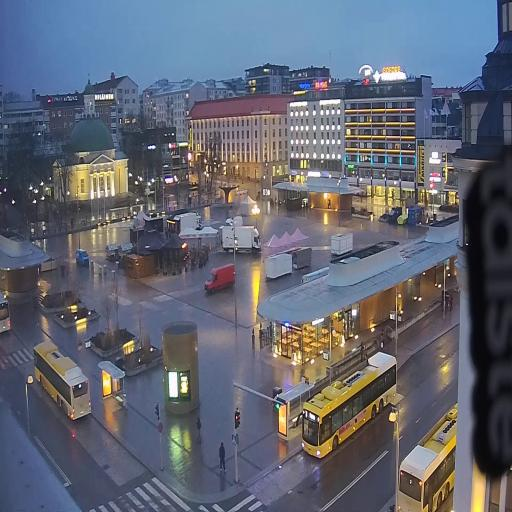bus: (291, 343, 401, 466), (393, 397, 461, 511), (27, 334, 96, 430), (0, 288, 15, 337)
delivery: (201, 260, 237, 299), (220, 225, 264, 255), (174, 207, 204, 235), (223, 212, 247, 230), (75, 247, 89, 271)
